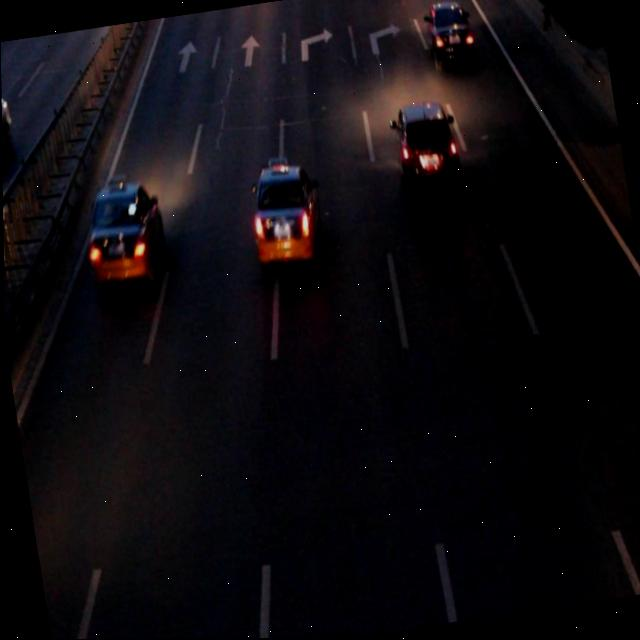car: (83, 181, 166, 285), (244, 164, 324, 265), (391, 100, 462, 203), (423, 2, 474, 65)
